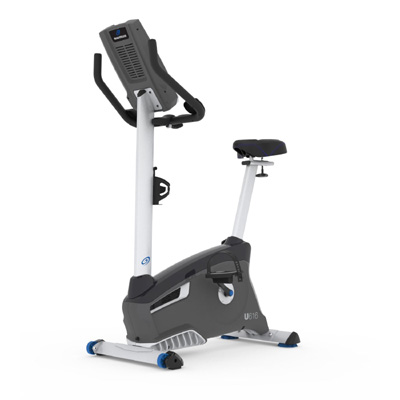gym_bike: (73, 24, 311, 369)
